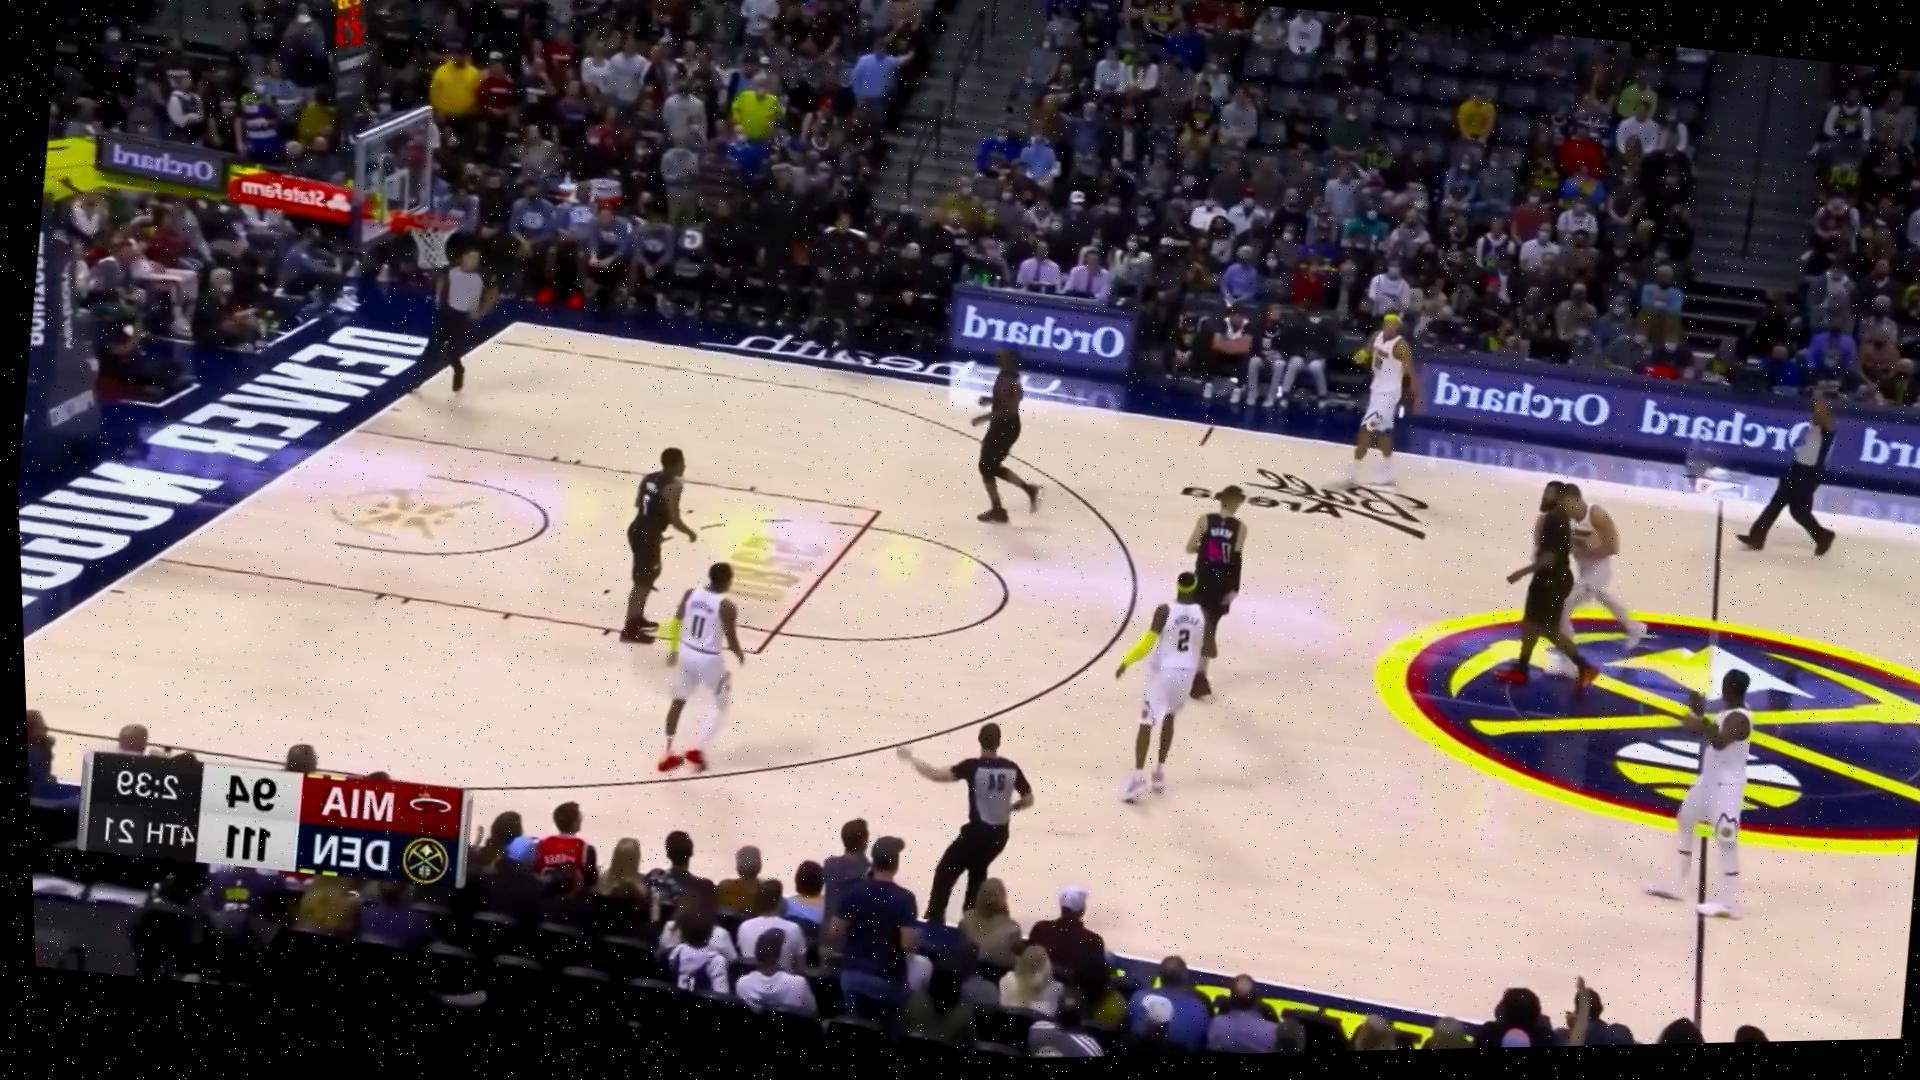foul: (1460, 444, 1677, 708)
